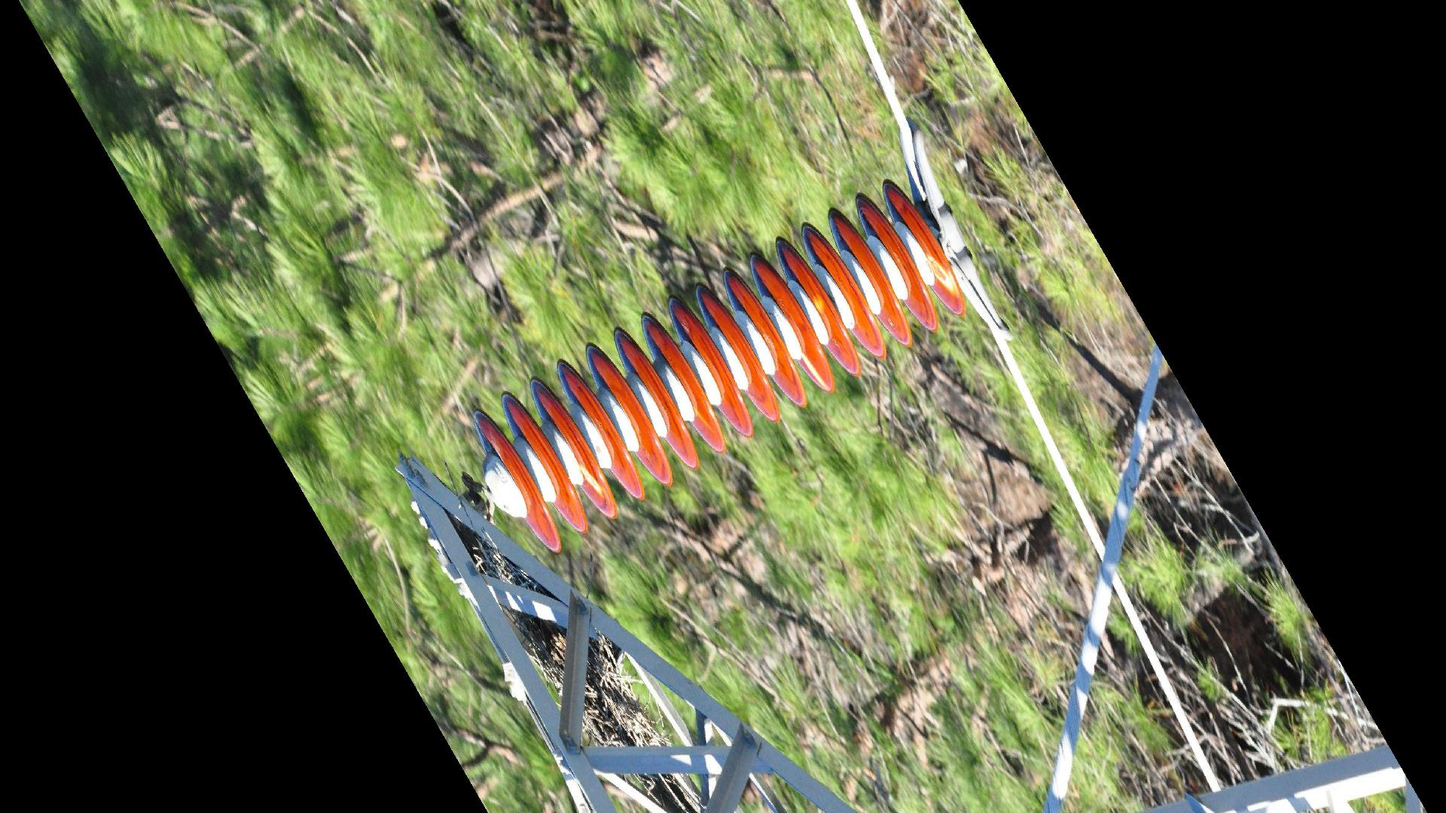insulator: (468, 178, 971, 556)
insulator_flashover: (923, 254, 960, 297), (578, 462, 606, 498)
